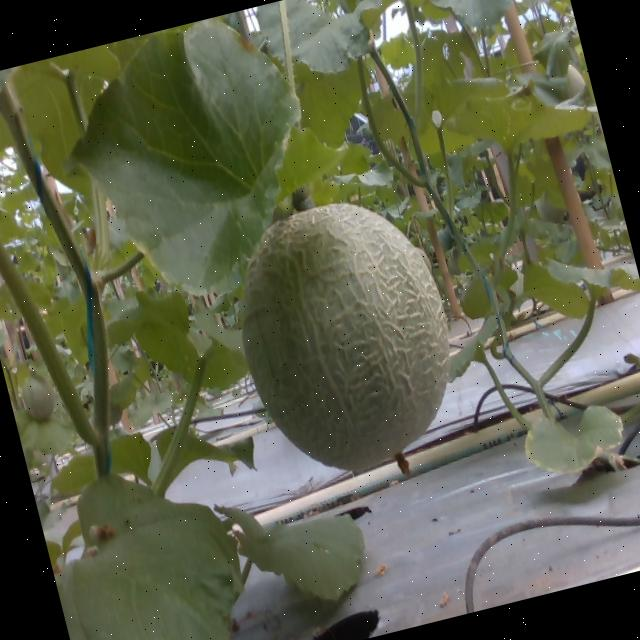melon: (243, 203, 449, 473)
